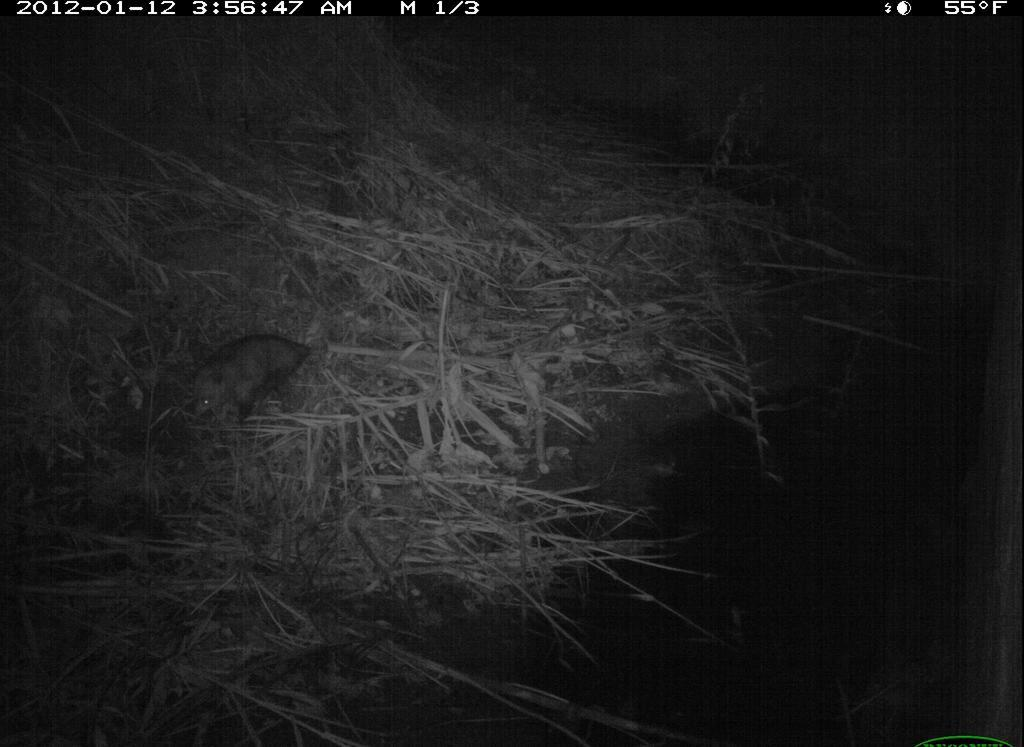opossum: (140, 335, 372, 432)
